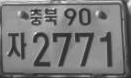0: (79, 7, 92, 26)
1: (98, 31, 116, 66)
2: (31, 30, 50, 68)
7: (73, 31, 95, 68), (52, 31, 72, 67)
9: (63, 7, 76, 26)
자: (6, 31, 27, 61)
충북_H: (28, 7, 57, 27)
